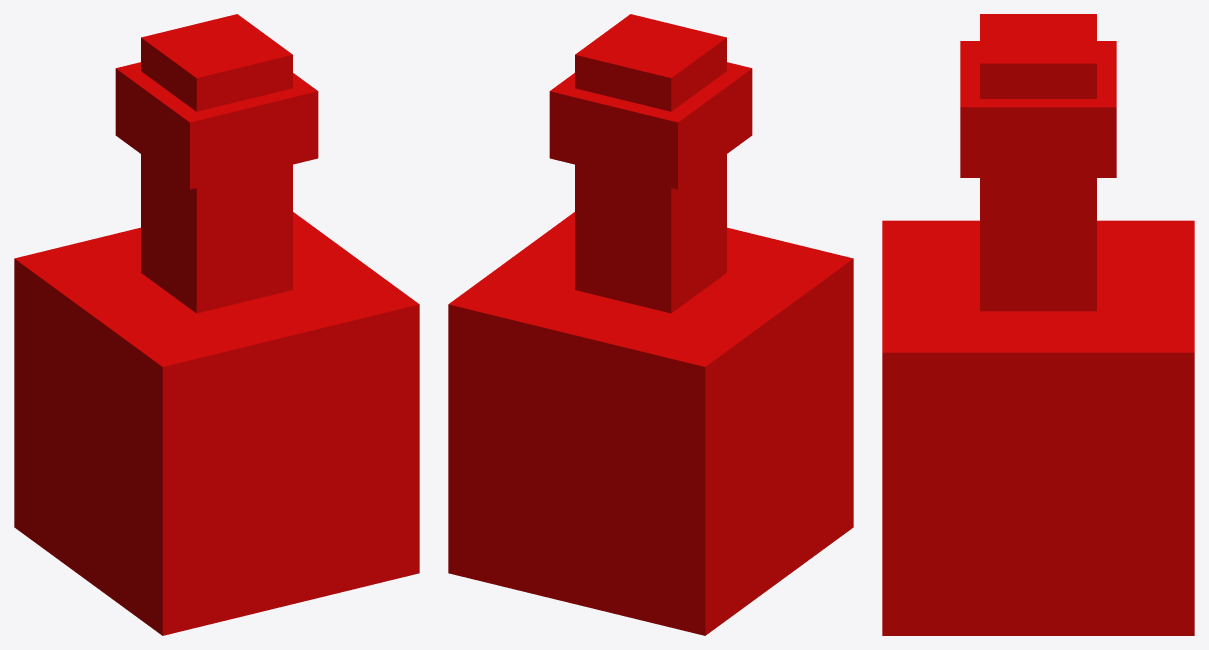
Rendered from health_potion_01_sm.glb.
3 renders of one model, left to right at view 1: azimuth 30°, elevation 25°; view 2: azimuth 150°, elevation 25°; view 3: azimuth 270°, elevation 25°, orthographic. The views are drawn at different scales.
Parts seen in each view (by area): view 1: health_potion_mesh.001; view 2: health_potion_mesh.001; view 3: health_potion_mesh.001.
Part boxes in pixels (x1=…): health_potion_mesh.001: x1=14, y1=14, x2=419, y2=635; health_potion_mesh.001: x1=448, y1=14, x2=853, y2=635; health_potion_mesh.001: x1=882, y1=14, x2=1194, y2=635.
Bounding box in the file's own units: 0.25 × 0.4688 × 0.25.
